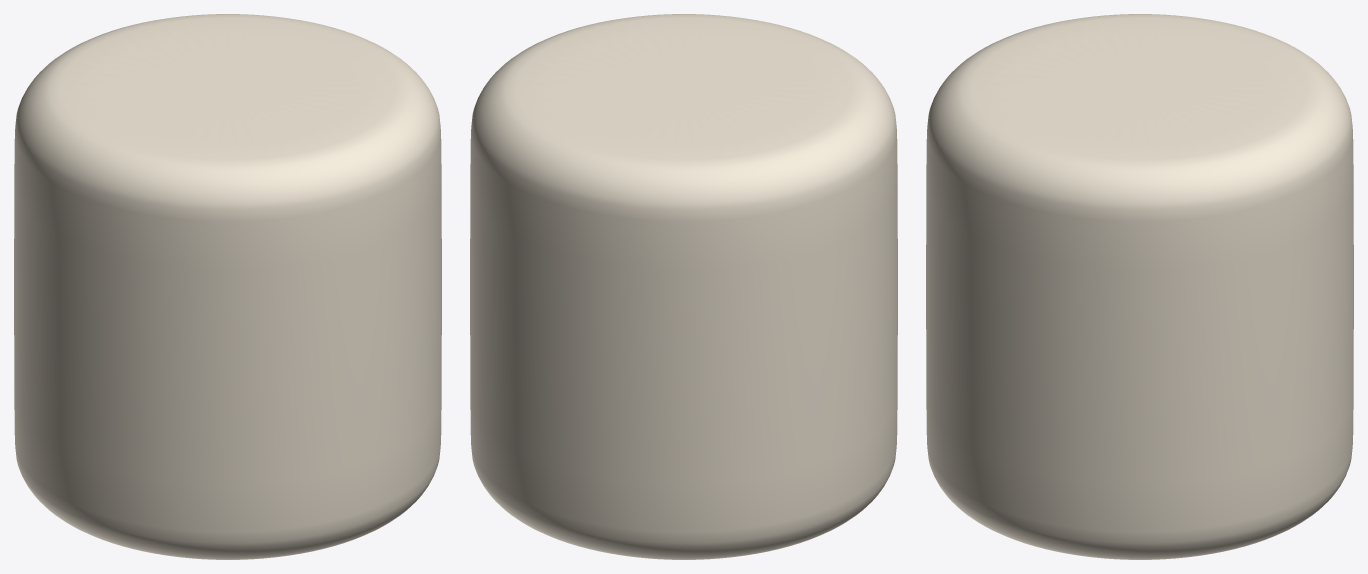
3 views of the same model, side by side, from view 1: azimuth 30°, elevation 25°; view 2: azimuth 150°, elevation 25°; view 3: azimuth 270°, elevation 25° (orthographic).
Parts seen in each view (by area): view 1: side-drum-01; view 2: side-drum-01; view 3: side-drum-01.
Boxes of the visible parts, left/top/right/bottom form: side-drum-01: left=14, top=14, right=441, bottom=559; side-drum-01: left=470, top=14, right=897, bottom=559; side-drum-01: left=926, top=14, right=1353, bottom=559.
Bounding box in the file's own units: 0.4486 × 0.46 × 0.4486.
